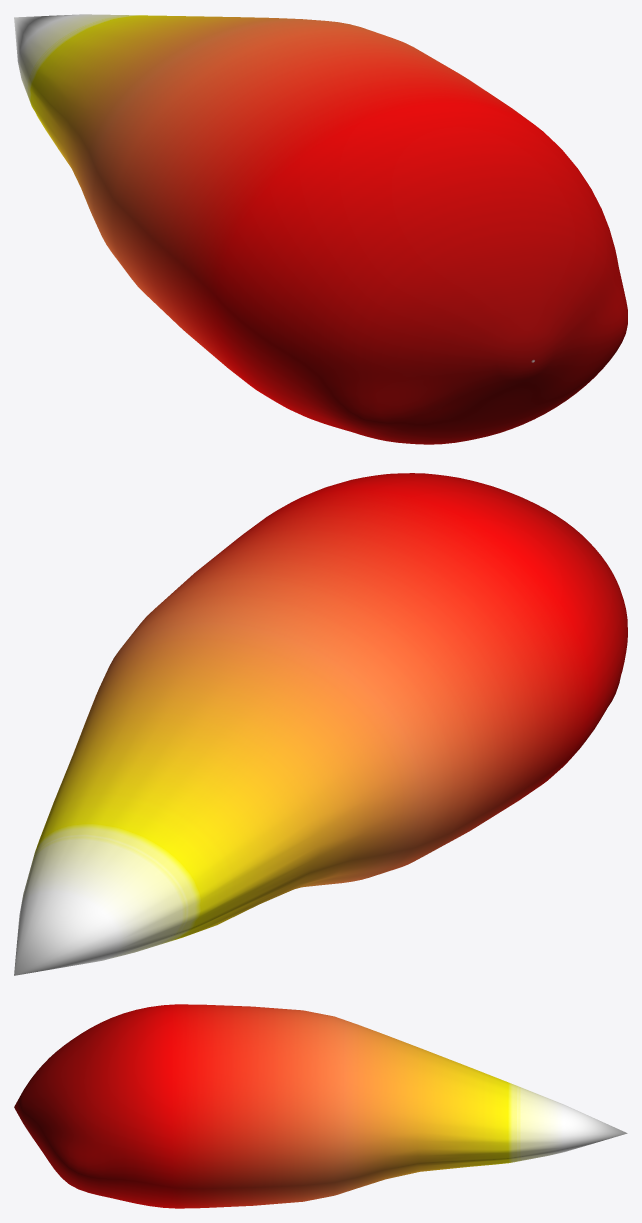
File: flame_primitive.fbx
3 renders of one model, top to bottom at view 1: azimuth 30°, elevation 25°; view 2: azimuth 150°, elevation 25°; view 3: azimuth 270°, elevation 25°, orthographic. The views are drawn at different scales.
Visible parts, largest first — view 1: pCylinder1; view 2: pCylinder1; view 3: pCylinder1.
Boxes of the visible parts, box(x1,y1,x2,y2) form: pCylinder1: box(14, 14, 627, 444); pCylinder1: box(14, 473, 627, 975); pCylinder1: box(14, 1004, 627, 1208).
Bounding box in the file's own units: 6.09 × 4.8 × 15.17.
Materials: 1 (1 with a texture image).
